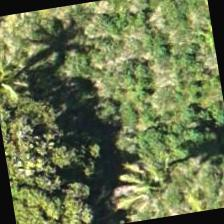Kelapa_Sawit: (102, 132, 205, 223), (0, 41, 52, 139)
